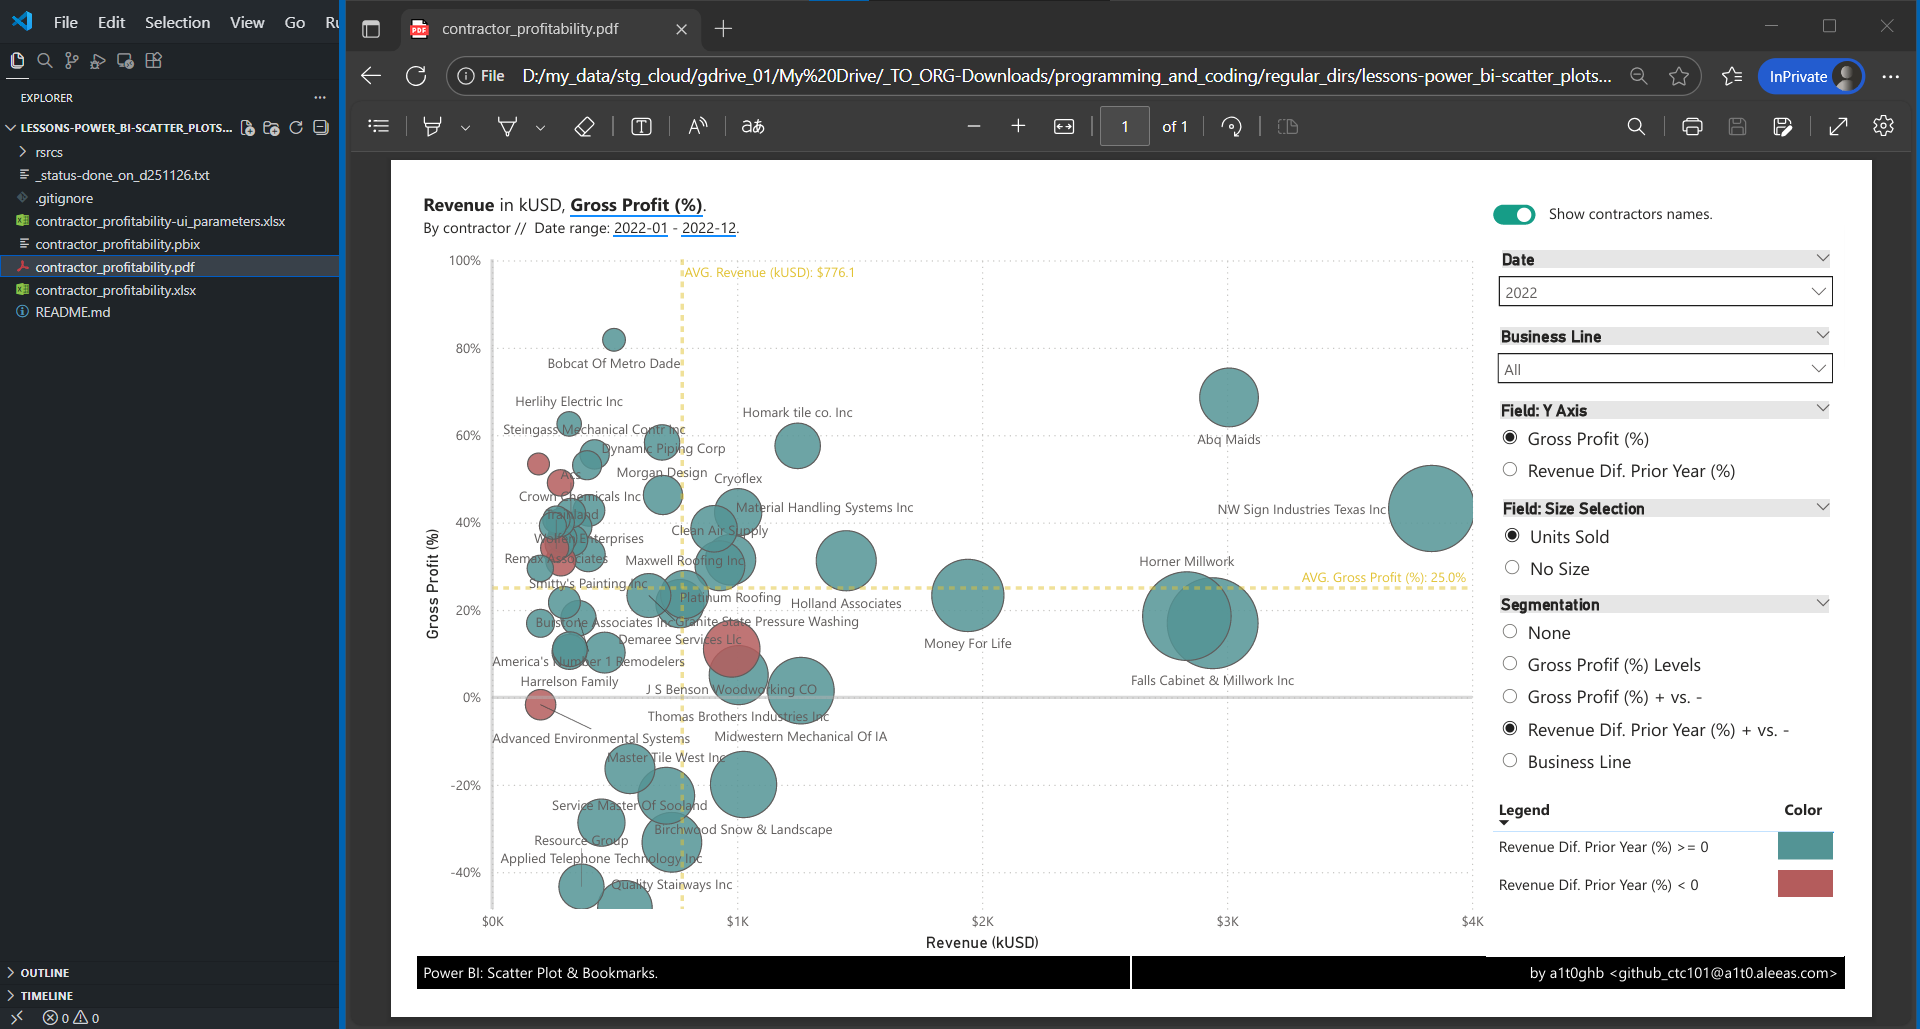

The dashboard page shown, as its layout file describes it:
{"tool":"powerbi","page":{"name":"Page 1","canvas":[1280,720],"ordinal":0},"visuals":[{"type":"tableEx","fields":{"Values":["tbl_parameters.segment","tbl_parameters.segment_index"]},"box":[959.3,541.2,320.3,178.7],"z":0},{"type":"scatterChart","fields":{"Y":["_tbl_measures.total_gross_profit_p"],"Size":["_tbl_measures.total_units"],"X":["_tbl_measures.total_revenue"],"Category":["tbl_contractors_profits.client_name"]},"box":[0,52,960.2,668.1],"z":1000},{"type":"slicer","fields":{"Values":["tbl_parameters.y_axis"]},"box":[959.3,187.1,320.3,87.7],"z":2000},{"type":"slicer","fields":{"Values":["tbl_dates.Year","tbl_dates.Month"]},"box":[960.2,52,319.5,68.8],"z":3000},{"type":"textbox","box":[0,0,959.3,52.3],"z":4000},{"type":"slicer","fields":{"Values":["Size Selection.Size Selection"]},"box":[961,274.8,318.7,86],"z":5000},{"type":"slicer","fields":{"Values":["tbl_ui_parameters.segment_category"]},"box":[959.3,360.8,320.3,180.4],"z":6000},{"type":"slicer","fields":{"Values":["tbl_contractors_profits.business_line"]},"box":[959.3,121.4,320.3,65.8],"z":6001}]}

Visuals, with their boxes on the page's 1280x720 design canvas (x1, y1, x2, y2). These are canvas units, not pixel positions in the 1920x1029 screenshot, which may show the page scaled, cropped or inside an application window:
tableEx - tbl_parameters.segment x tbl_parameters.segment_index: detection(959, 541, 1280, 720)
scatterChart - _tbl_measures.total_gross_profit_p x _tbl_measures.total_units: detection(0, 52, 960, 720)
slicer - tbl_parameters.y_axis: detection(959, 187, 1280, 275)
slicer - tbl_dates.Year x tbl_dates.Month: detection(960, 52, 1280, 121)
textbox: detection(0, 0, 959, 52)
slicer - Size Selection.Size Selection: detection(961, 275, 1280, 361)
slicer - tbl_ui_parameters.segment_category: detection(959, 361, 1280, 541)
slicer - tbl_contractors_profits.business_line: detection(959, 121, 1280, 187)
